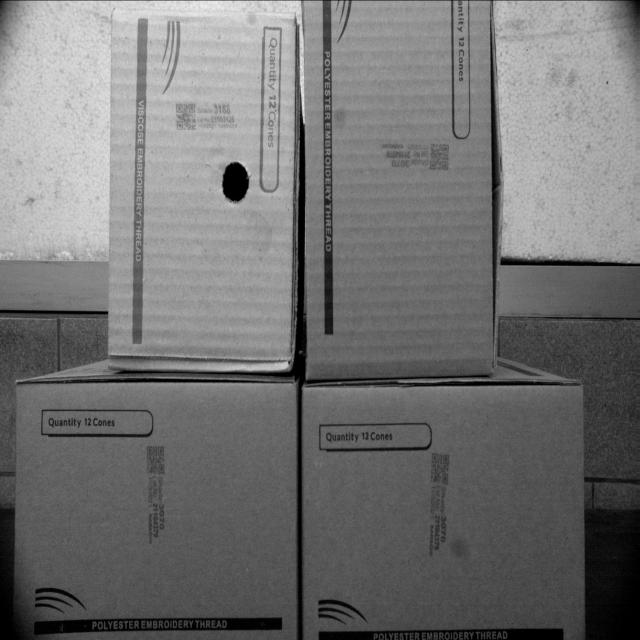cardboxes: (302, 0, 504, 385), (12, 377, 300, 639), (304, 383, 584, 637), (108, 4, 300, 373)
